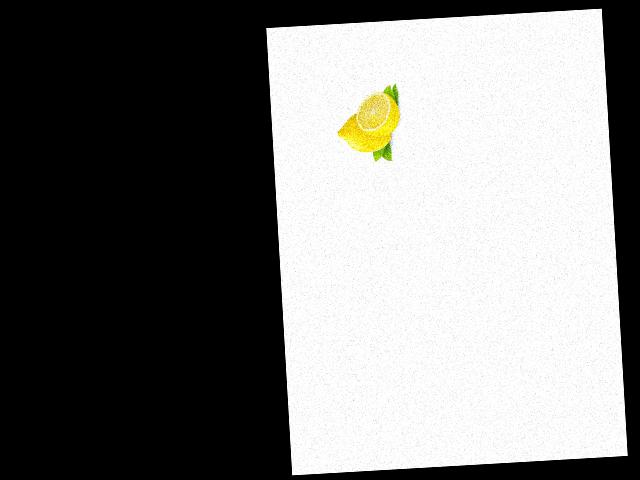lemon: (335, 109, 397, 159)
